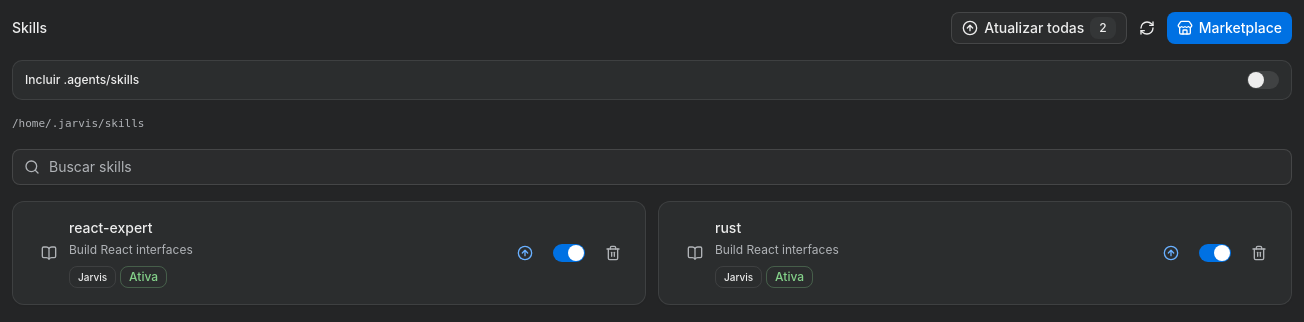
SkillsSettings › verifica atualizações automaticamente e permite atualizar todas
What coordinates should you click on to do the following:
click the button "Atualizar todas 2"
I would click on:
 (1039, 28)
Its box is [951,12,1127,44].
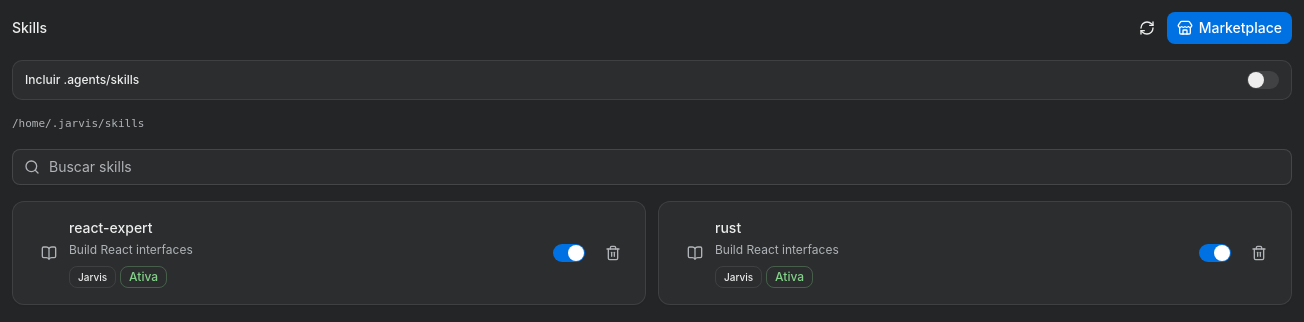
Check: the button with aria-label "Detalhes de react-expert" is shown, box [29,218,541,288]
Check: the button "Atualizar todas" is gone
